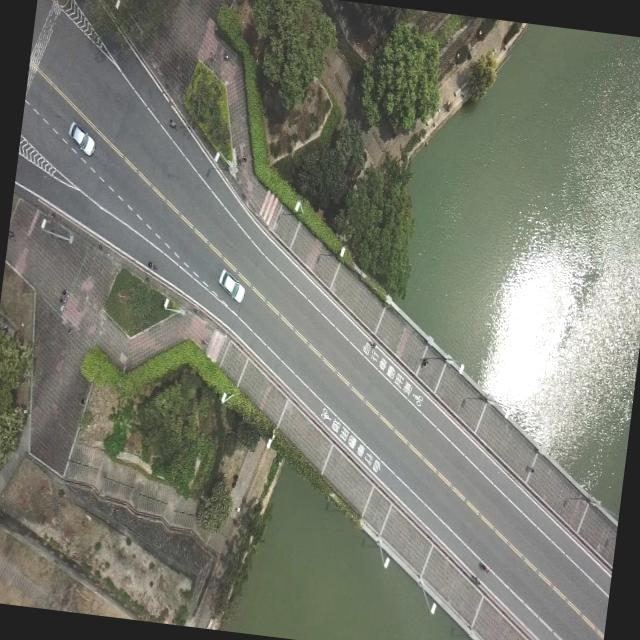car: (66, 119, 98, 155), (215, 268, 248, 302)
